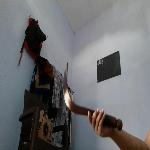Celurit: (57, 57, 128, 132)
